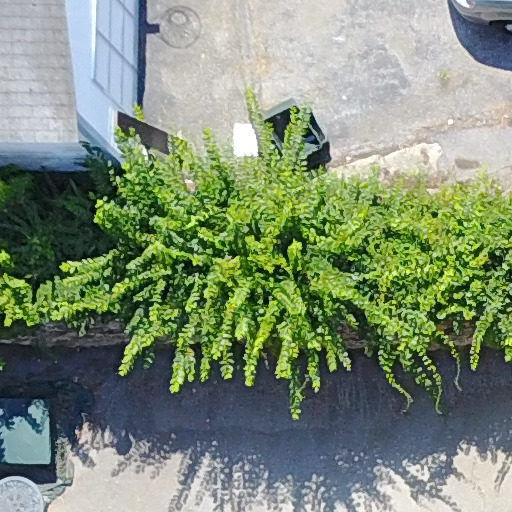recycling bin: (245, 87, 350, 172)
